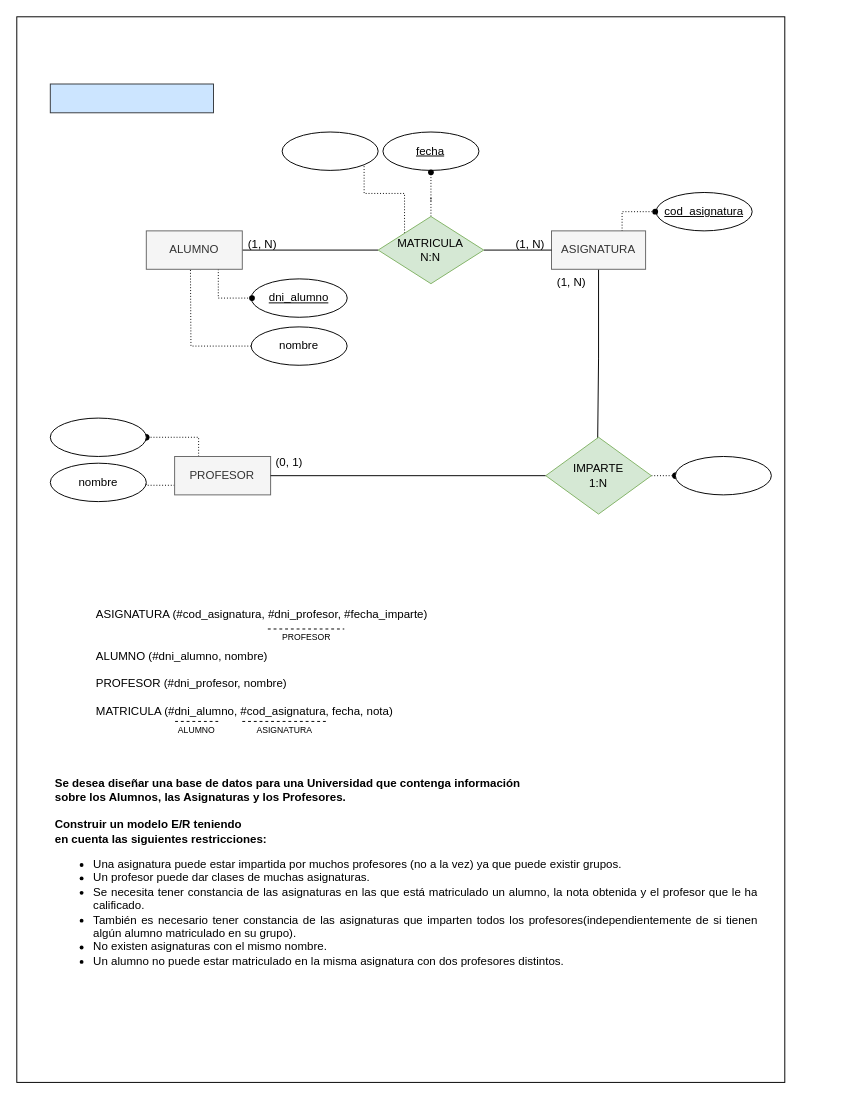
Image size: 845x1099. Some labels were removed from this diagram. Each missing label, with the centre of its shape:
"dni_profesor" goes at pixel 97 436.
"EJER. 16 - UNIVERSIDAD" goes at pixel 131 98.
"fecha_imparte" goes at pixel 722 475.
"nota" goes at pixel 329 150.
